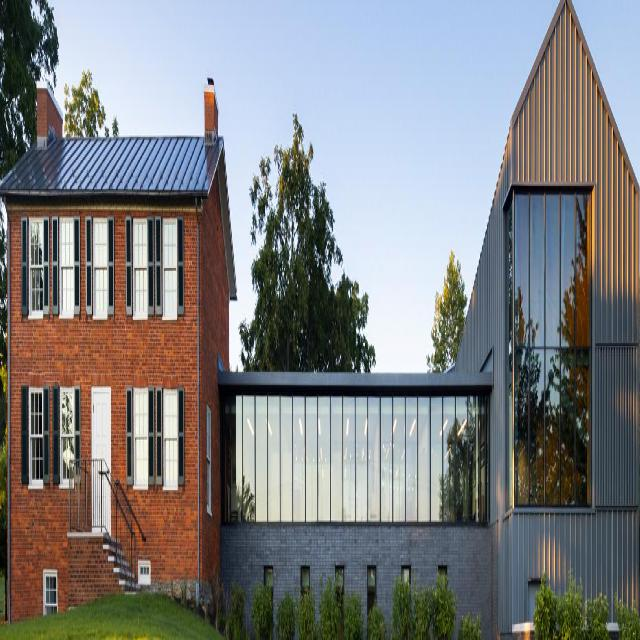door: (90, 387, 112, 540)
window: (223, 395, 489, 525), (506, 190, 592, 511), (126, 216, 183, 321), (86, 219, 114, 325), (22, 218, 50, 314), (52, 387, 80, 481), (52, 218, 79, 315), (28, 389, 49, 479), (164, 391, 179, 488), (134, 392, 147, 491)
